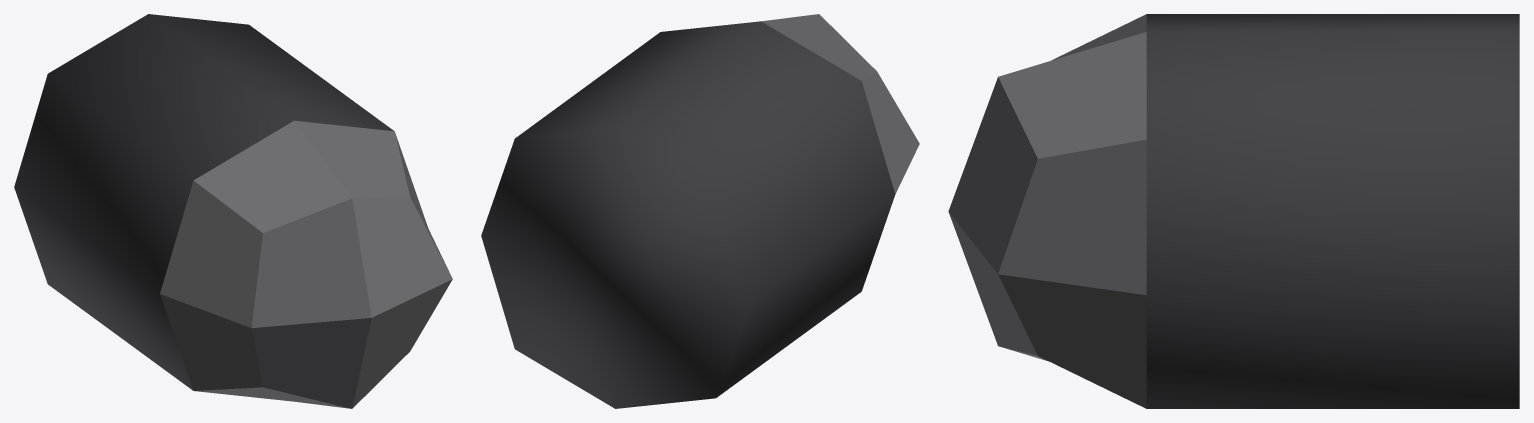
Rendered from bullet-02.obj.
3 views of the same model, side by side, from view 1: azimuth 30°, elevation 25°; view 2: azimuth 150°, elevation 25°; view 3: azimuth 270°, elevation 25° (orthographic). The views are drawn at different scales.
Parts seen in each view (by area): view 1: bullet-02.obj; view 2: bullet-02.obj; view 3: bullet-02.obj.
Boxes of the visible parts, x1,y1,x2,y2 form: bullet-02.obj: [14, 14, 452, 408]; bullet-02.obj: [481, 14, 919, 408]; bullet-02.obj: [948, 14, 1519, 408].
Bounding box in the file's own units: 0.1013 × 0.1013 × 0.1459.
